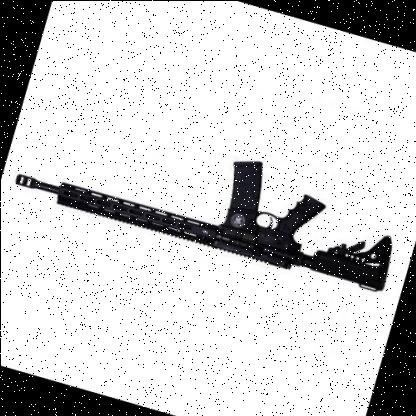rifle: (10, 92, 416, 303)
